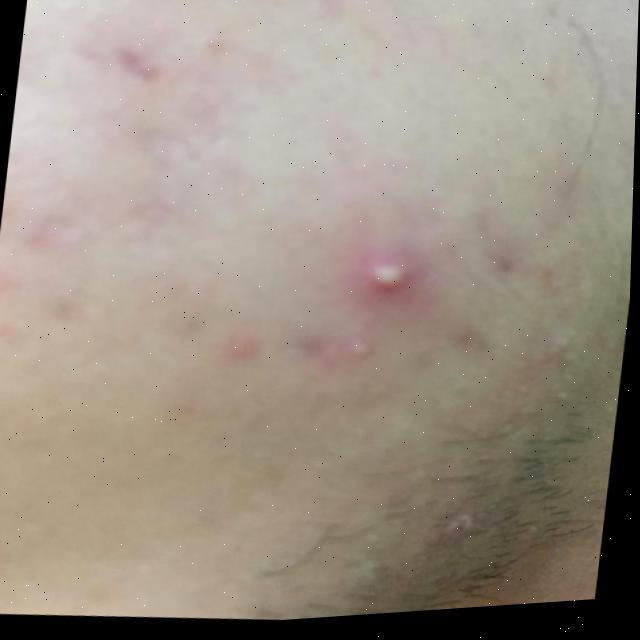Acne: (361, 260, 421, 321)
